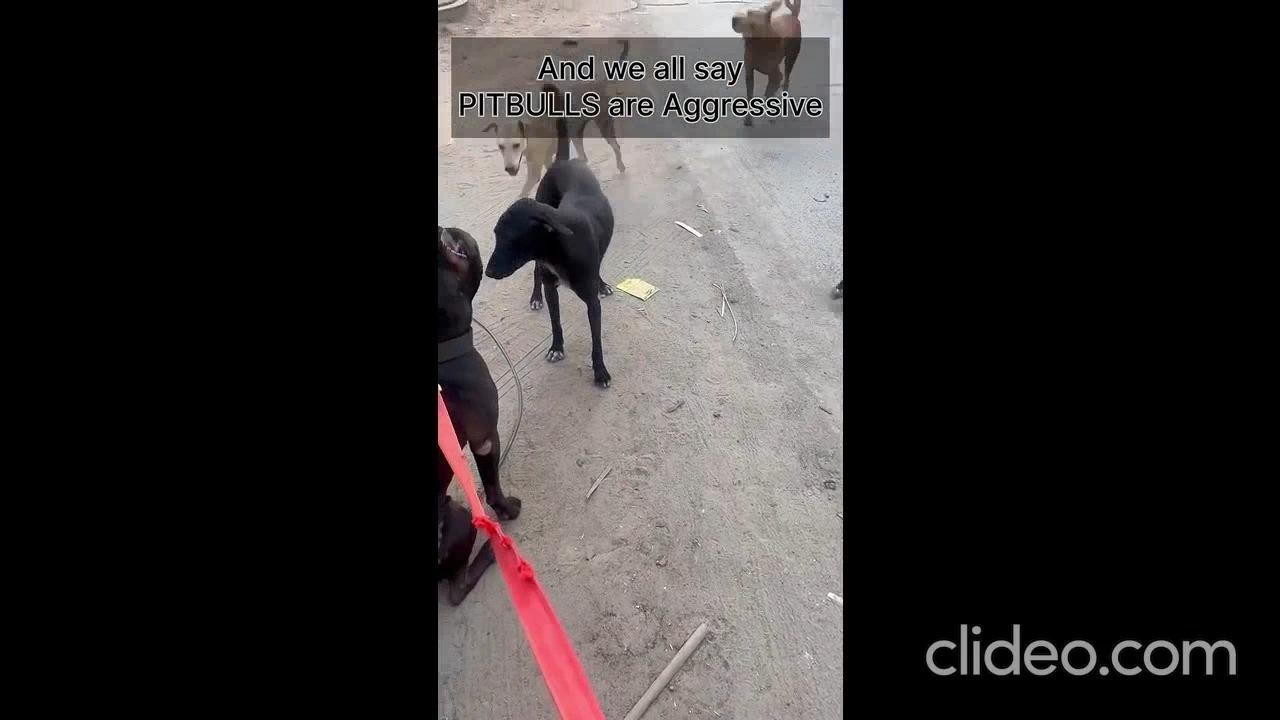dog: (479, 91, 624, 388), (487, 44, 630, 180), (729, 1, 810, 121)
